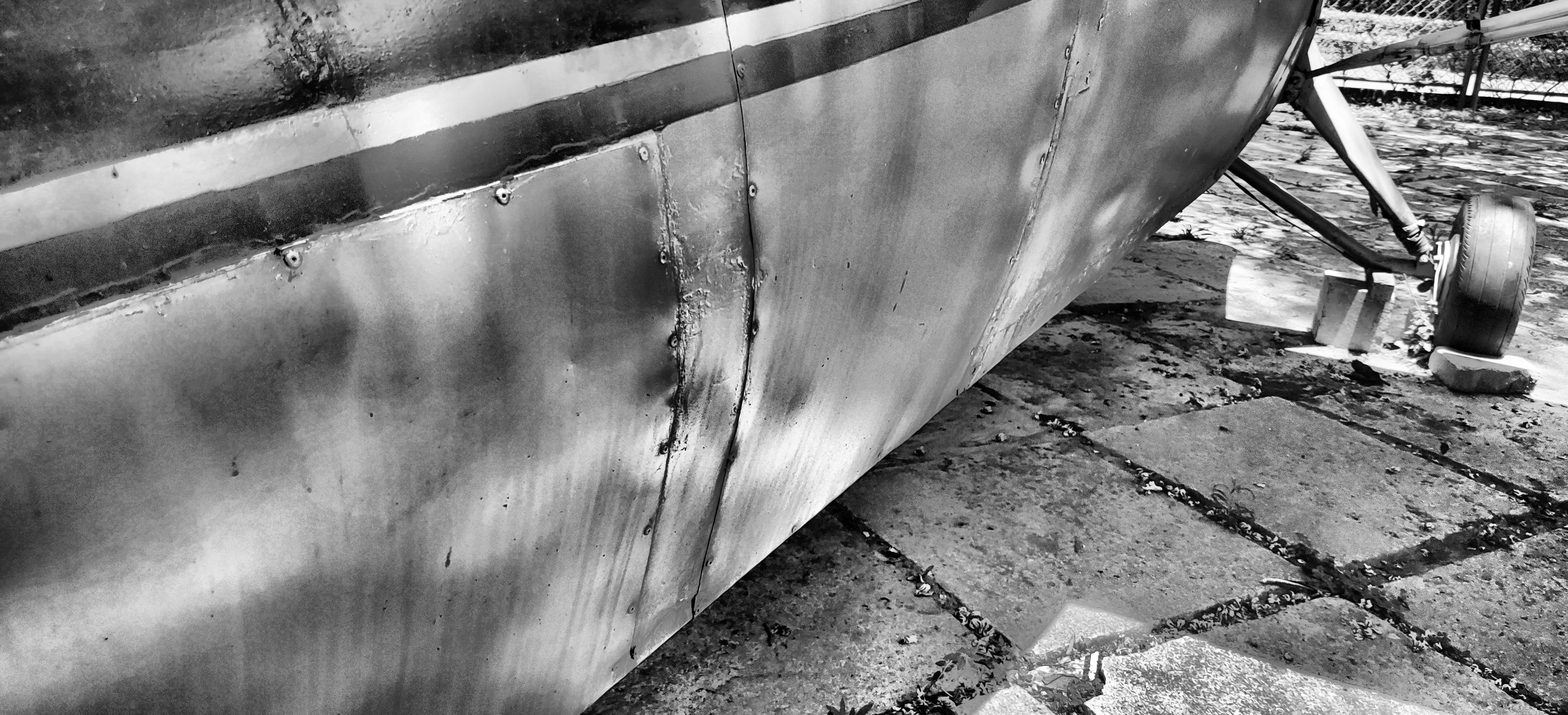dent: (1102, 186, 1137, 229), (1142, 195, 1170, 231)
